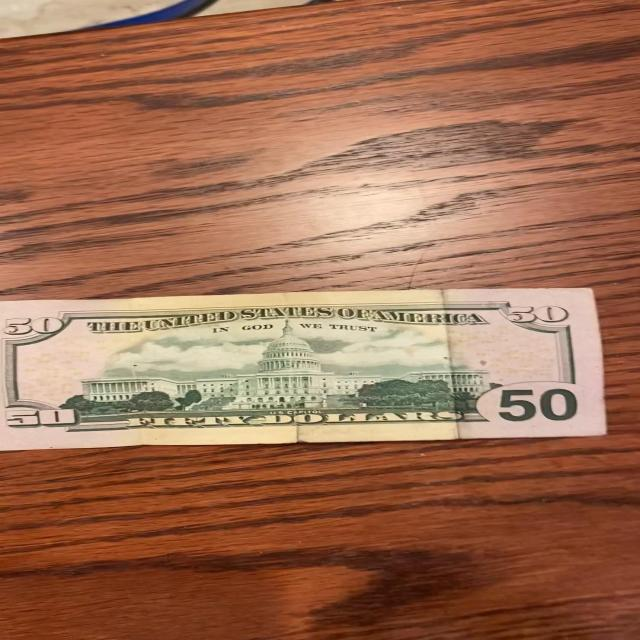50-Back: (0, 288, 608, 452)
